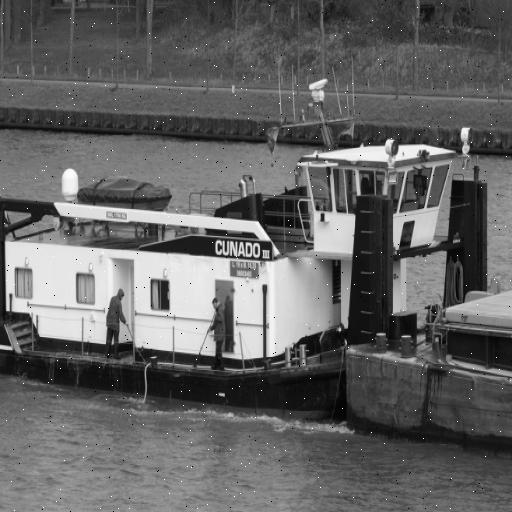tugboat: (1, 51, 499, 441)
